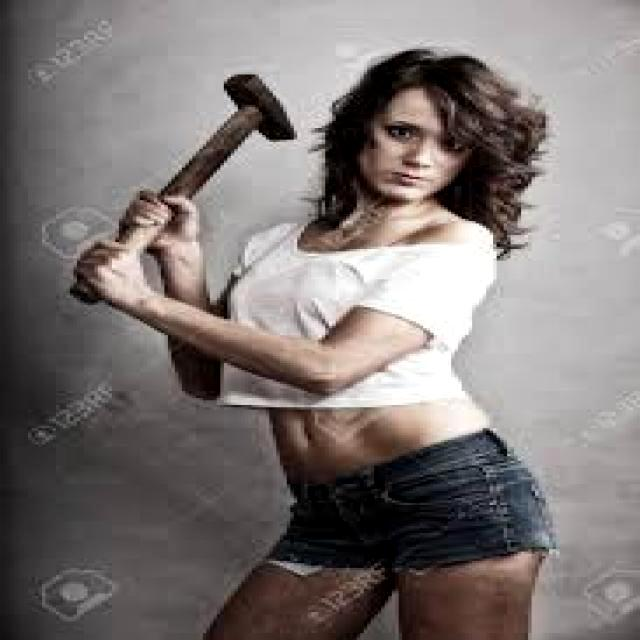hammer: (64, 70, 300, 316)
